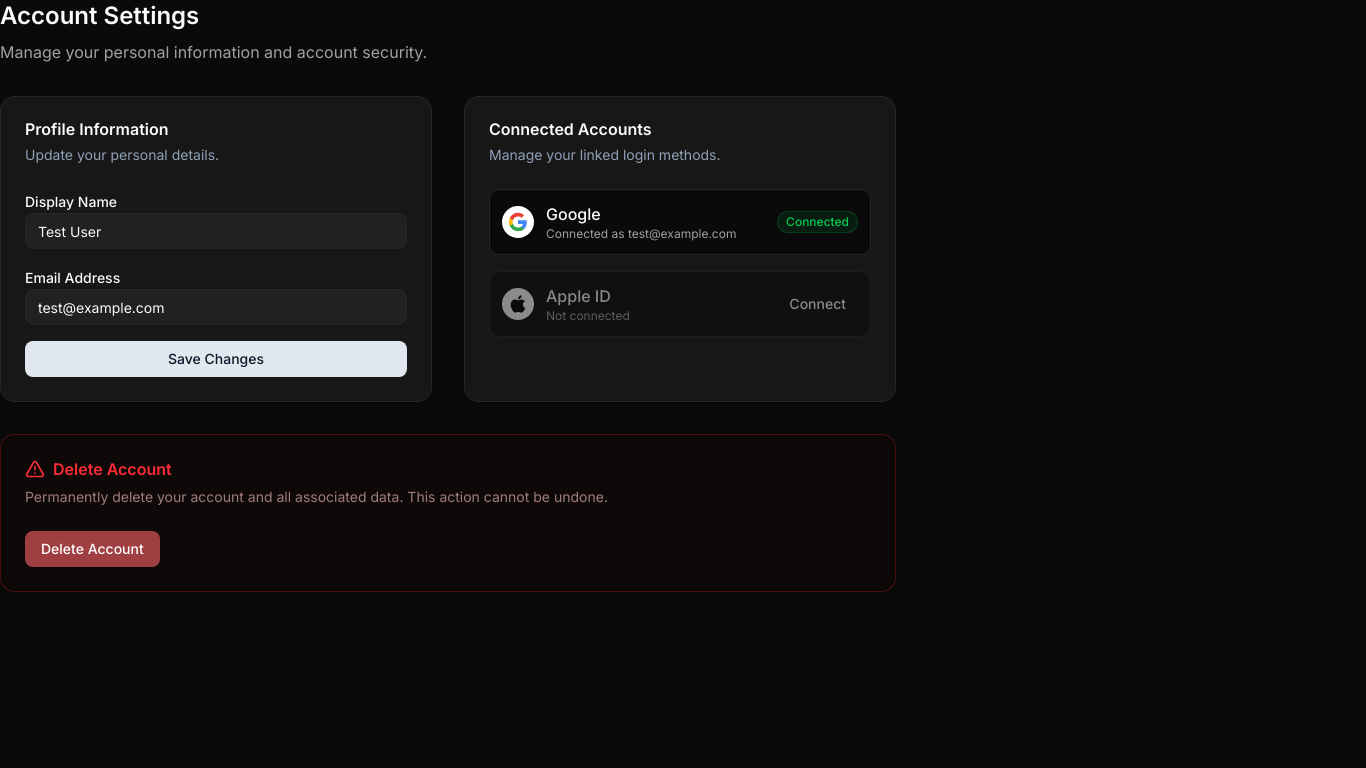
Test: AccountSettingsPage › Delete Account Interactions › should require typing DELETE to confirm
Click the button "Delete Account" at (92, 549), box [25, 531, 160, 567]
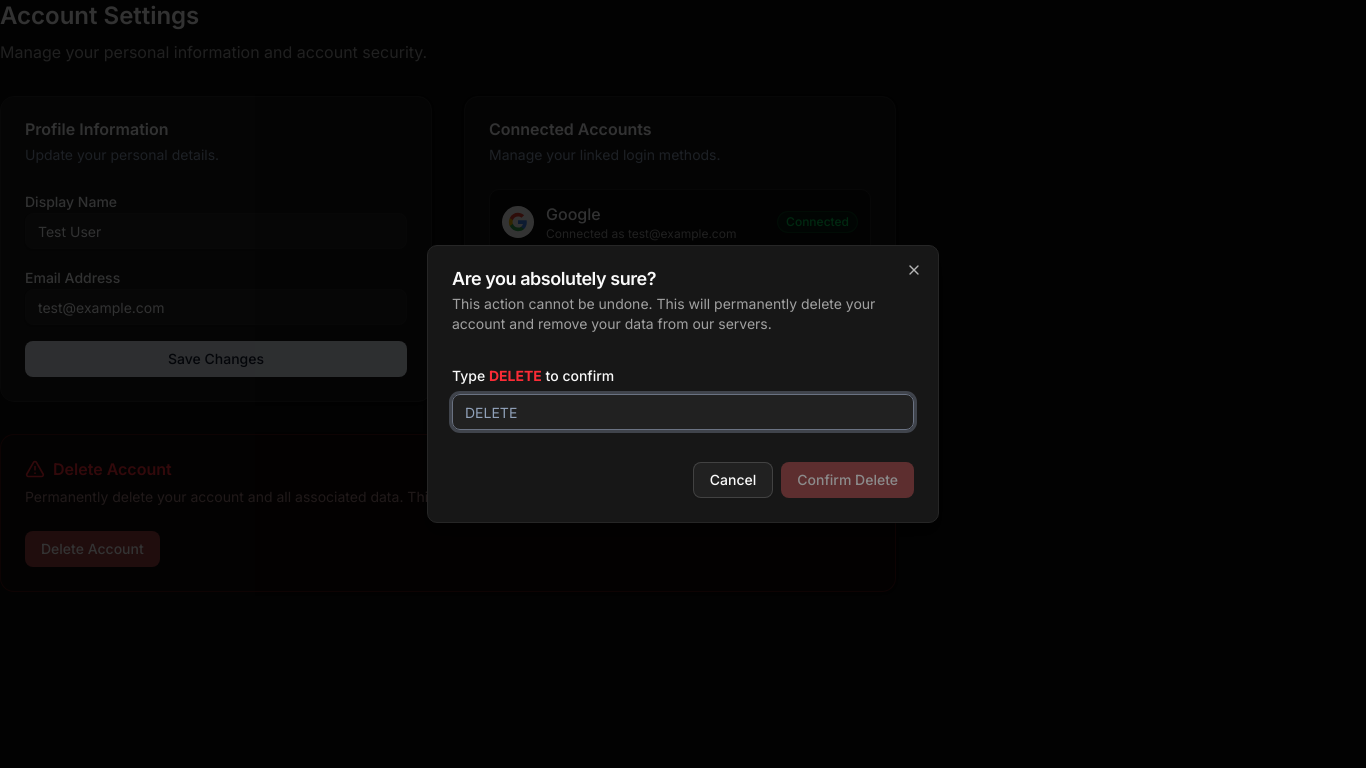
Now the button "Confirm Delete" is disabled, box [781, 462, 914, 498]
Type "DEL" into the field with placeholder "DELETE" at (683, 412), box [452, 394, 914, 430]
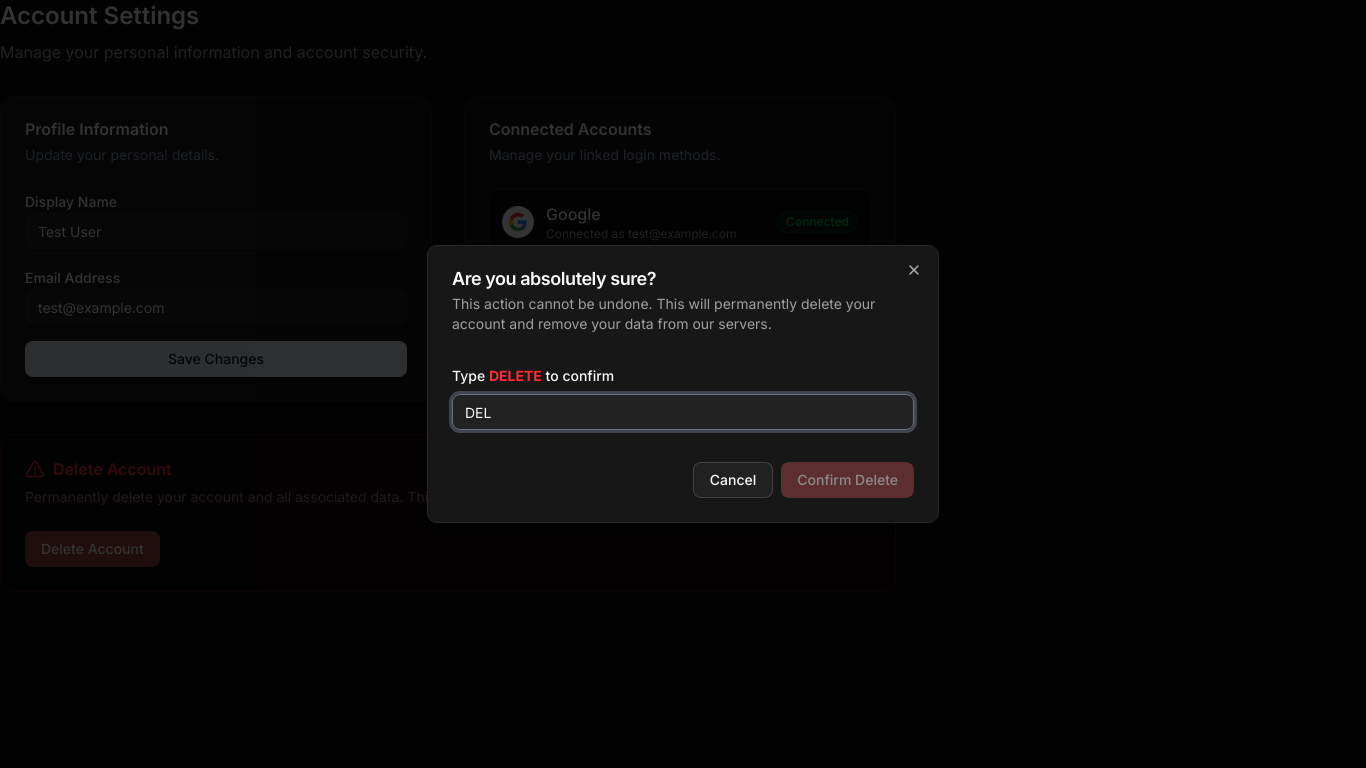
Now the button "Confirm Delete" is disabled, box [781, 462, 914, 498]
Type "ETE" into the field with placeholder "DELETE" at (683, 412), box [452, 394, 914, 430]
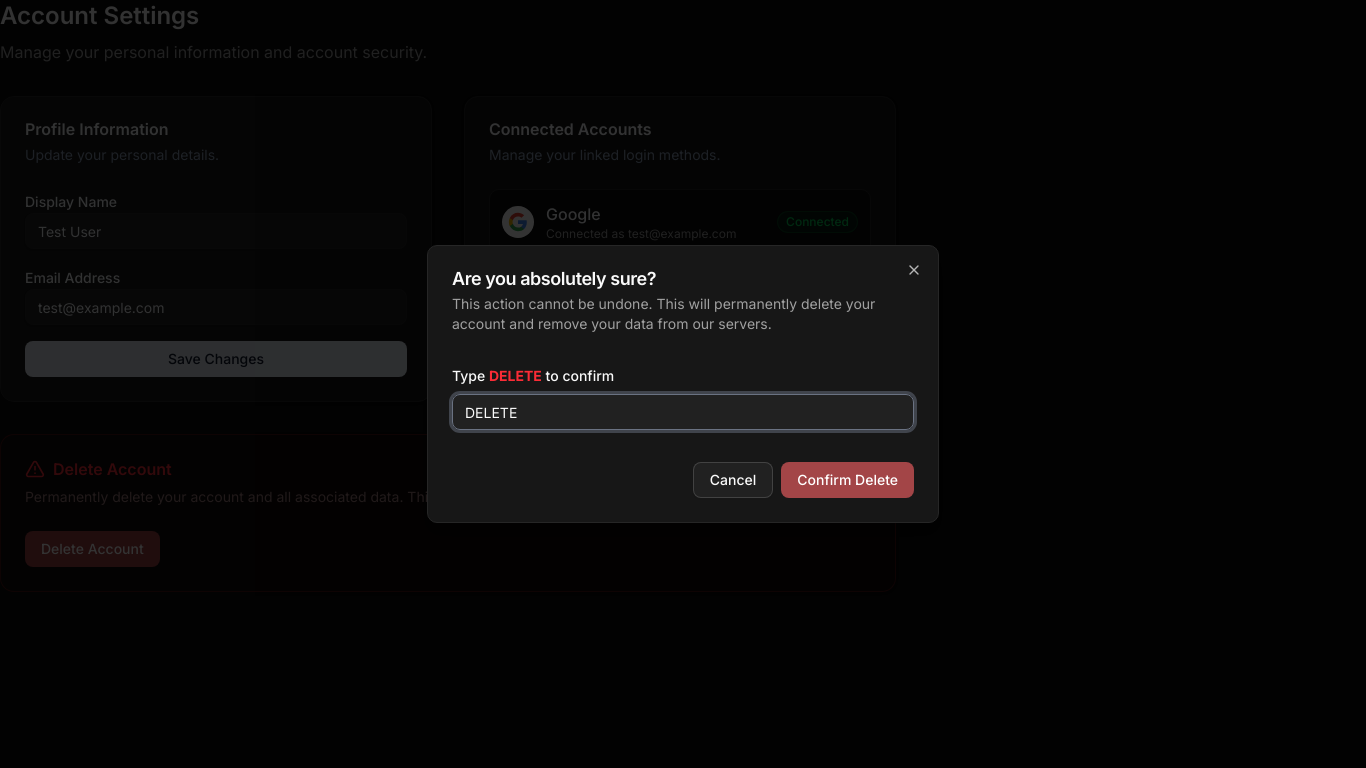
Now the button "Confirm Delete" is enabled, box [781, 462, 914, 498]
